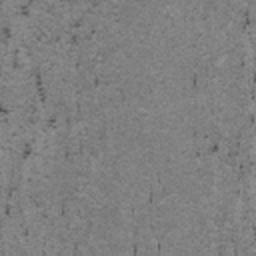Oxide scale of temperature system: (0, 0, 108, 237), (208, 142, 256, 227), (237, 9, 252, 69), (192, 74, 198, 91)
